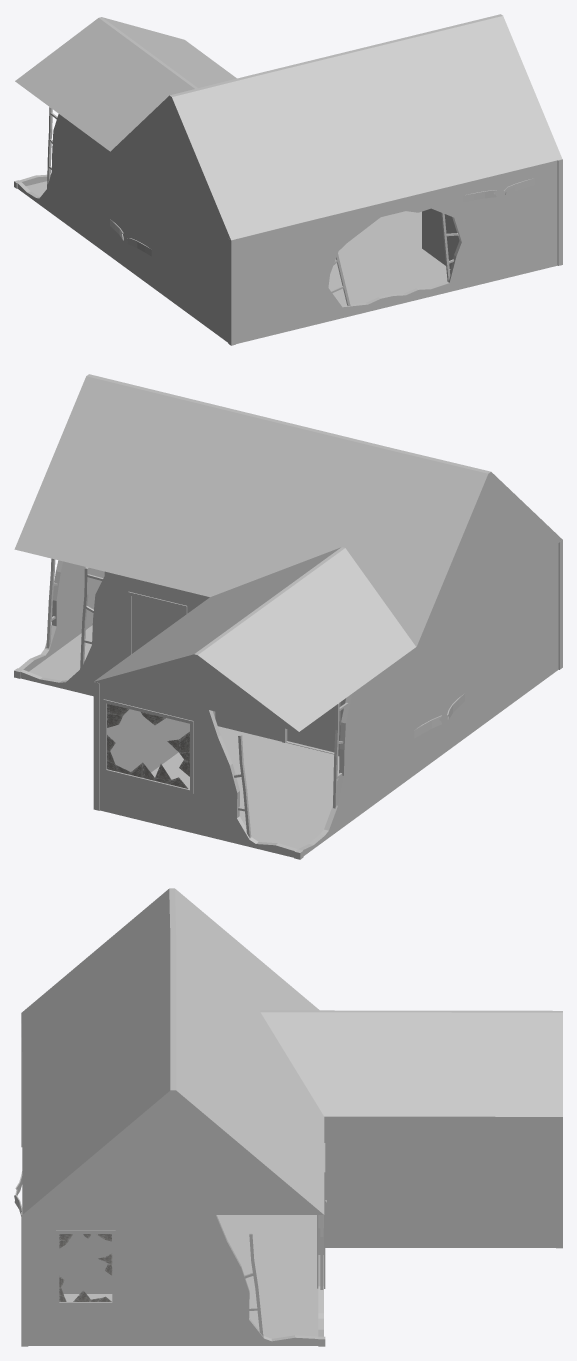
Rendered from Suburbs_house6.fbx.
3 renders of one model, top to bottom at view 1: azimuth 30°, elevation 25°; view 2: azimuth 150°, elevation 25°; view 3: azimuth 270°, elevation 25°, orthographic. The views are drawn at different scales.
Parts seen in each view (by area): view 1: Cube.018, SmallHouse1.022; view 2: Cube.018, SmallHouse1.022, Plane.560, Cube.027, Cube.028; view 3: Cube.018, SmallHouse1.022, Plane.561.
Boxes of the visible parts, left/top/right/bottom form: Cube.018: left=15, top=14, right=562, bottom=240; SmallHouse1.022: left=14, top=107, right=562, bottom=345; Cube.018: left=14, top=374, right=562, bottom=731; SmallHouse1.022: left=14, top=540, right=562, bottom=859; Plane.560: left=107, top=703, right=189, bottom=788; Cube.027: left=131, top=596, right=183, bottom=653; Cube.028: left=287, top=706, right=335, bottom=752; Cube.018: left=21, top=888, right=562, bottom=1214; SmallHouse1.022: left=14, top=1024, right=562, bottom=1346; Plane.561: left=59, top=1234, right=112, bottom=1301.
Bounding box in the file's own units: 837 × 487 × 947.
